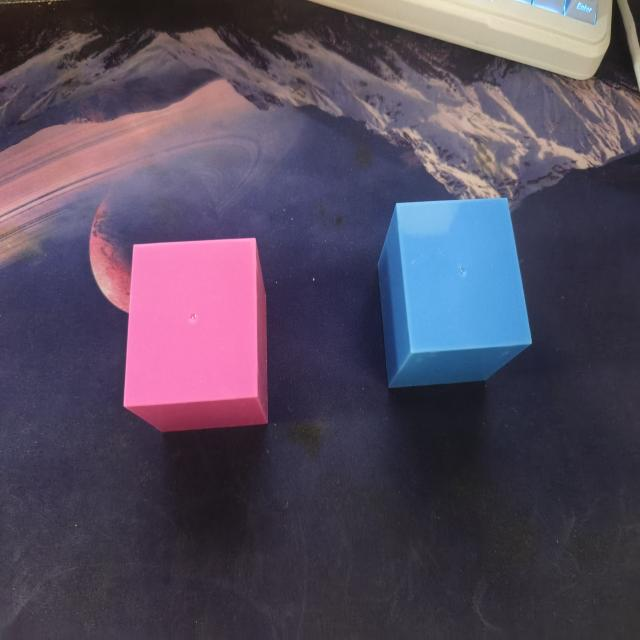blue: (374, 195, 539, 400)
pink: (120, 237, 280, 430)
